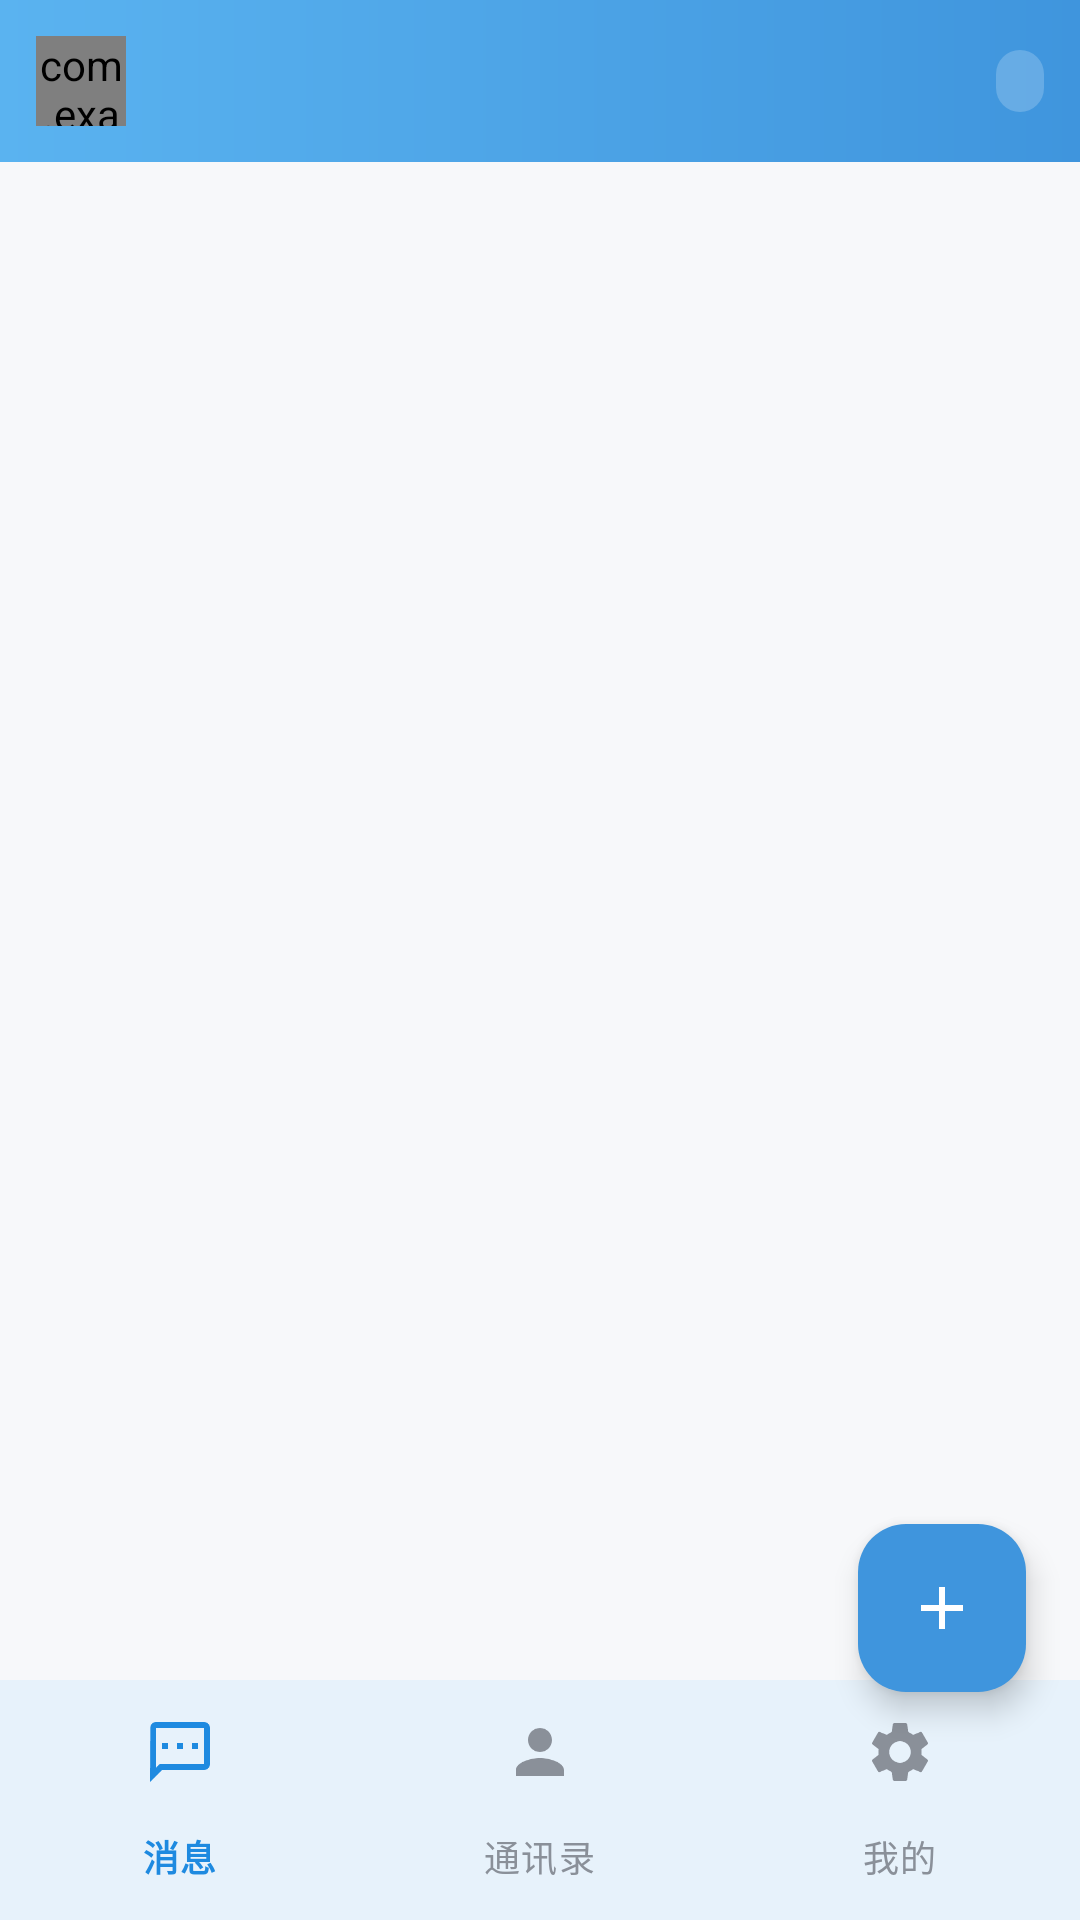

Where to tap for icons on this 1080 x 1920 app screen, as (x,y):
添加好友: (942,1608)
